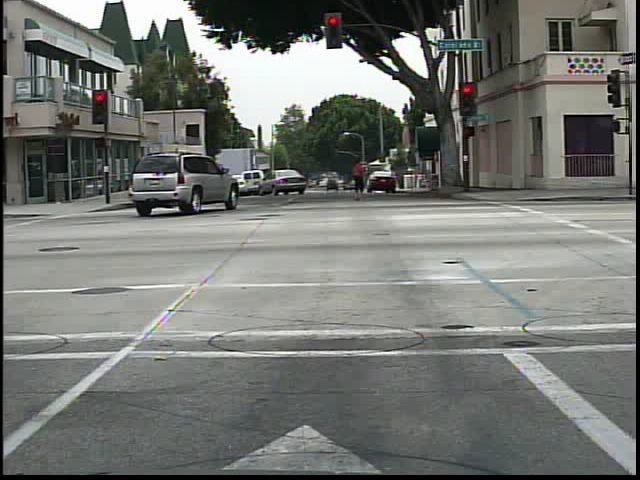person: (344, 155, 372, 202)
